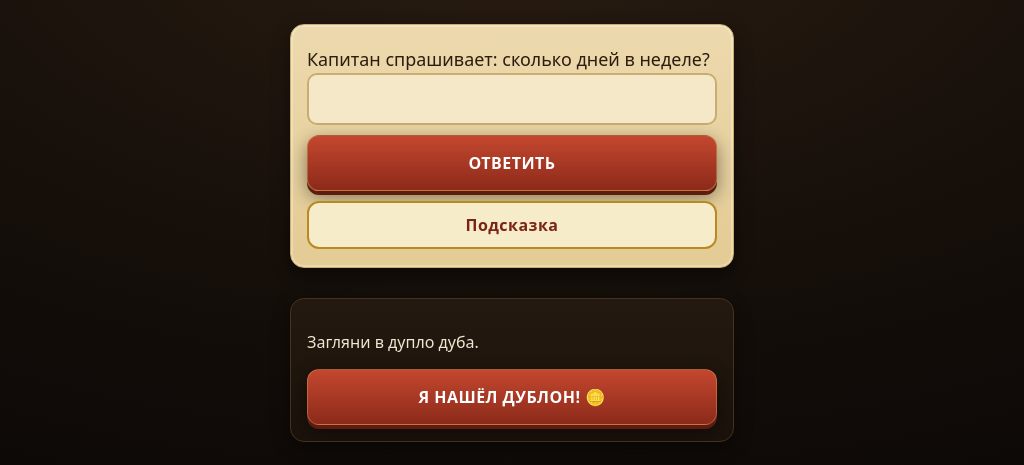
Test: hint button appears and shows hint text on riddle step
Note: Click it
Click the button "Подсказка".
click(512, 225)  # box [307,201,717,249]
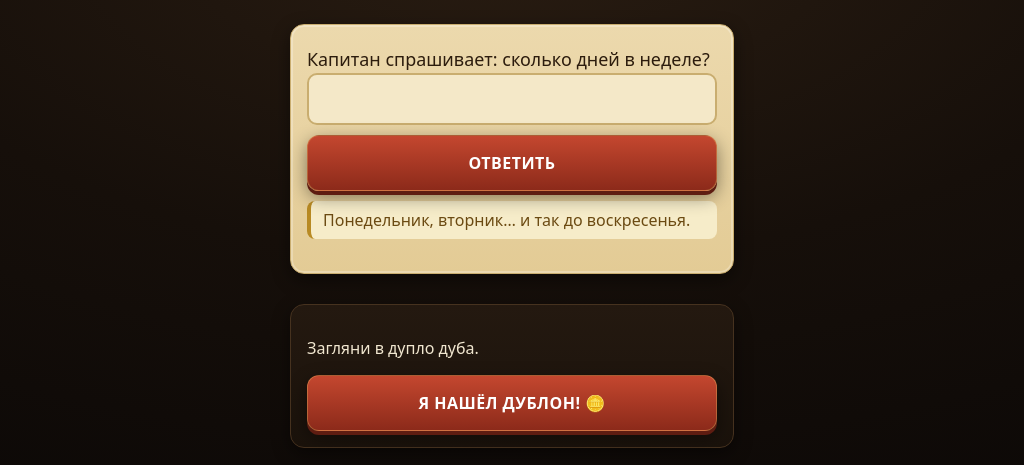
Result: the text "Понедельник, вторник… и так до воскресенья." is shown at [307,201,717,239]
